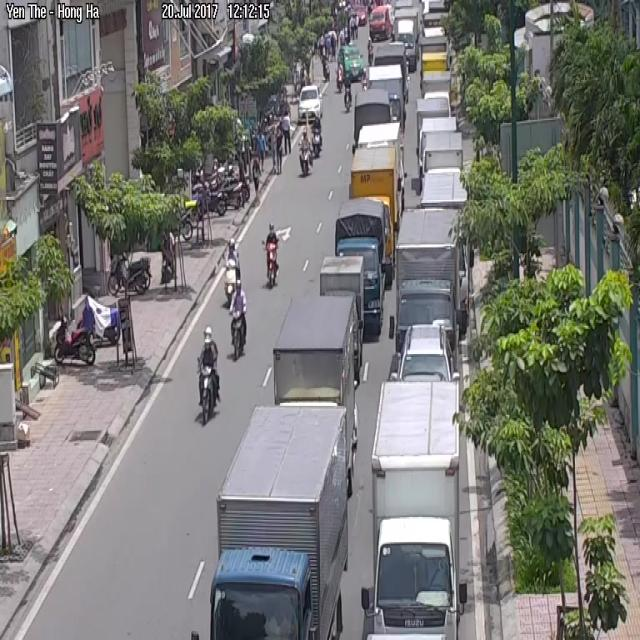car: (53, 308, 95, 364), (198, 327, 219, 424), (231, 283, 246, 359), (265, 225, 278, 287), (299, 126, 312, 175), (228, 239, 238, 279), (312, 120, 321, 157), (344, 83, 351, 110)
traffic-light: (298, 84, 322, 121), (338, 44, 363, 79)
truck: (210, 397, 350, 640), (362, 378, 464, 640), (397, 201, 459, 339), (331, 197, 387, 342)
